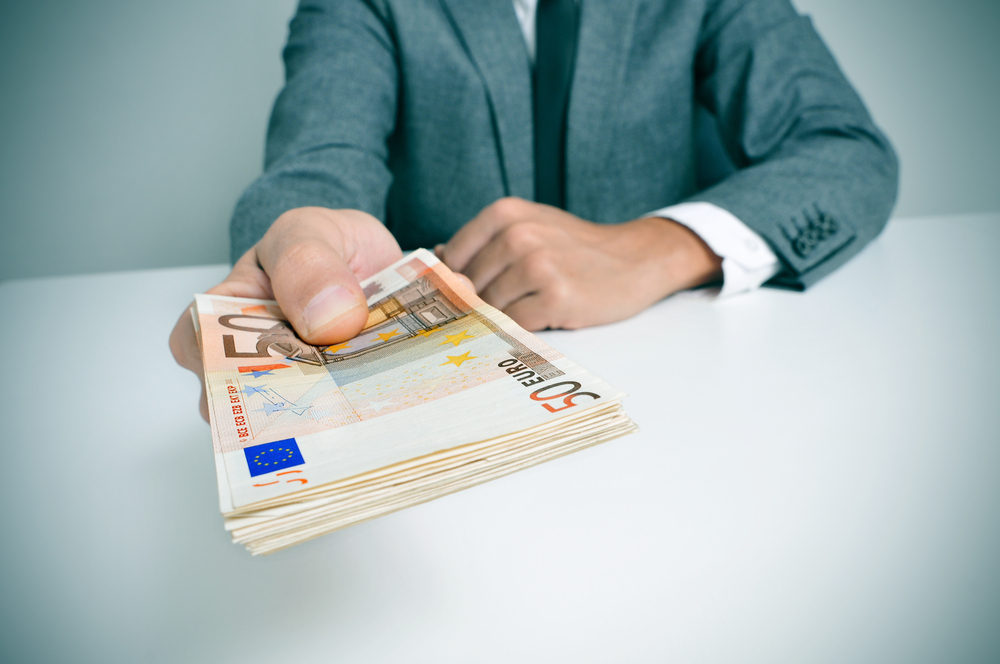billete: (185, 235, 642, 560)
